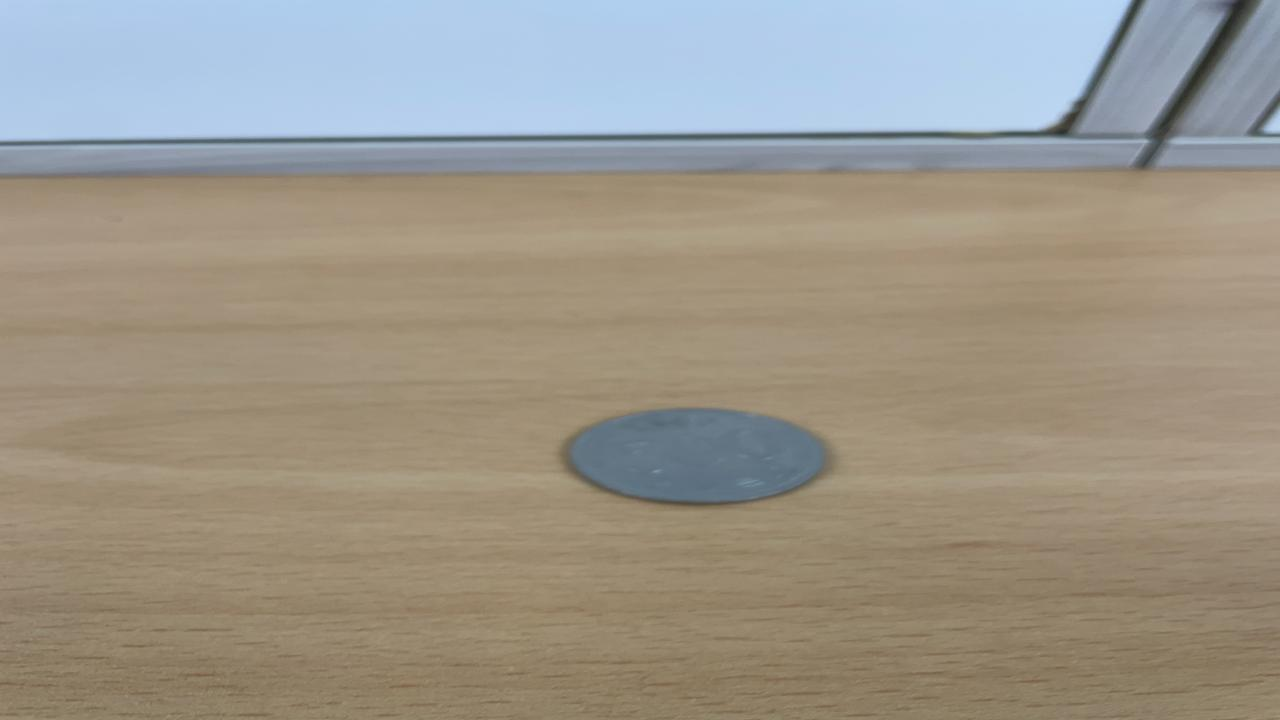coin: (561, 406, 834, 505)
